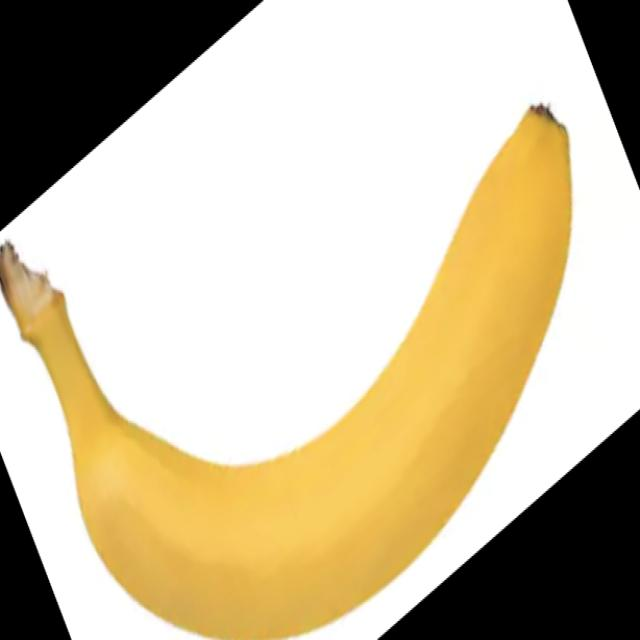god quality banana: (22, 109, 572, 638)
